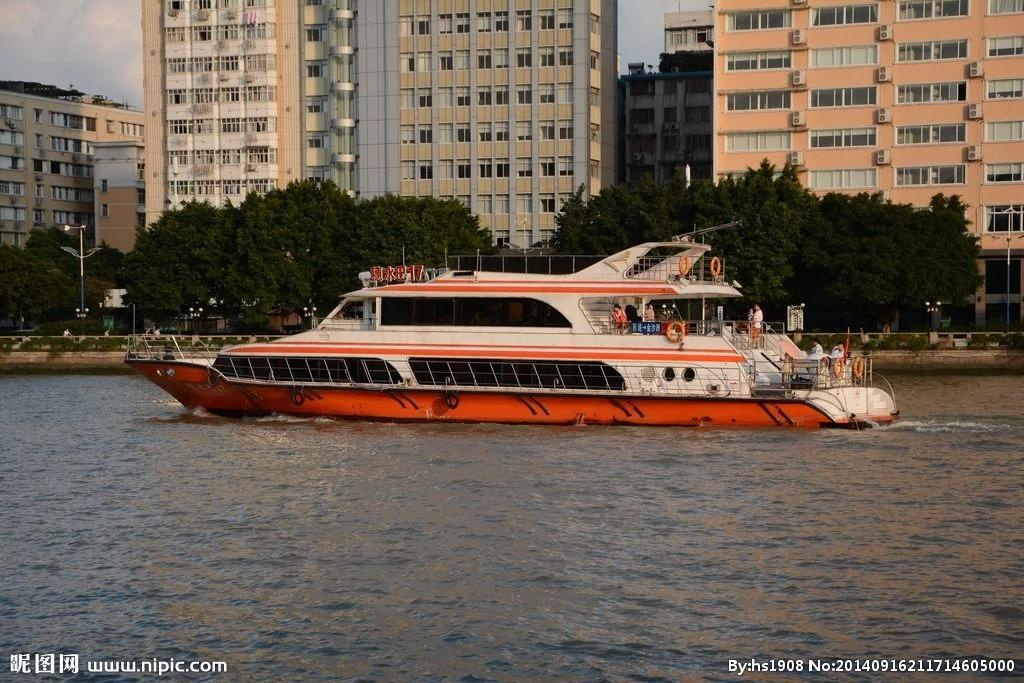yacht: (120, 222, 902, 422)
